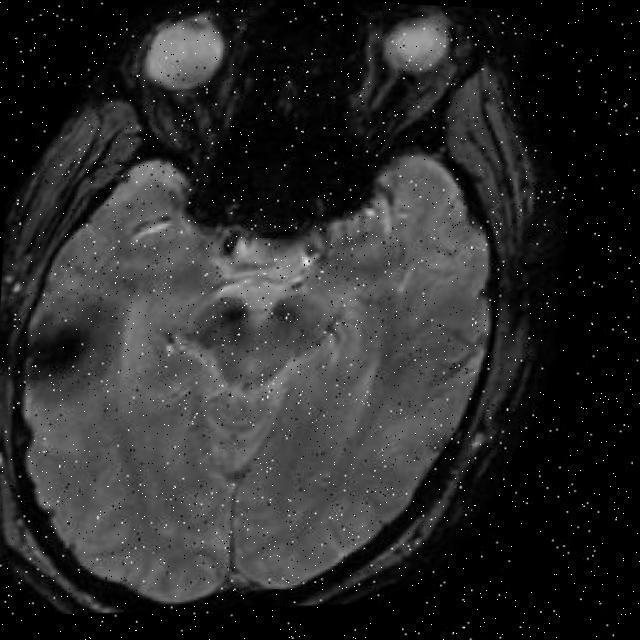CN: (25, 286, 136, 409)
